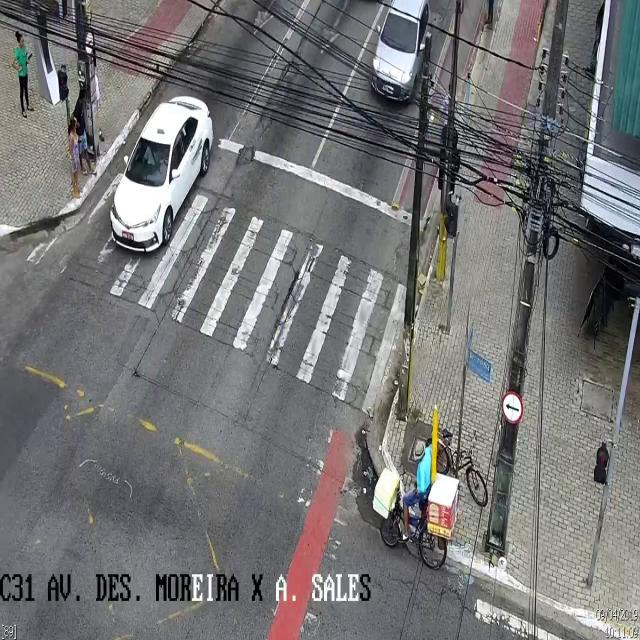Car: (109, 95, 213, 252), (371, 3, 432, 102)
